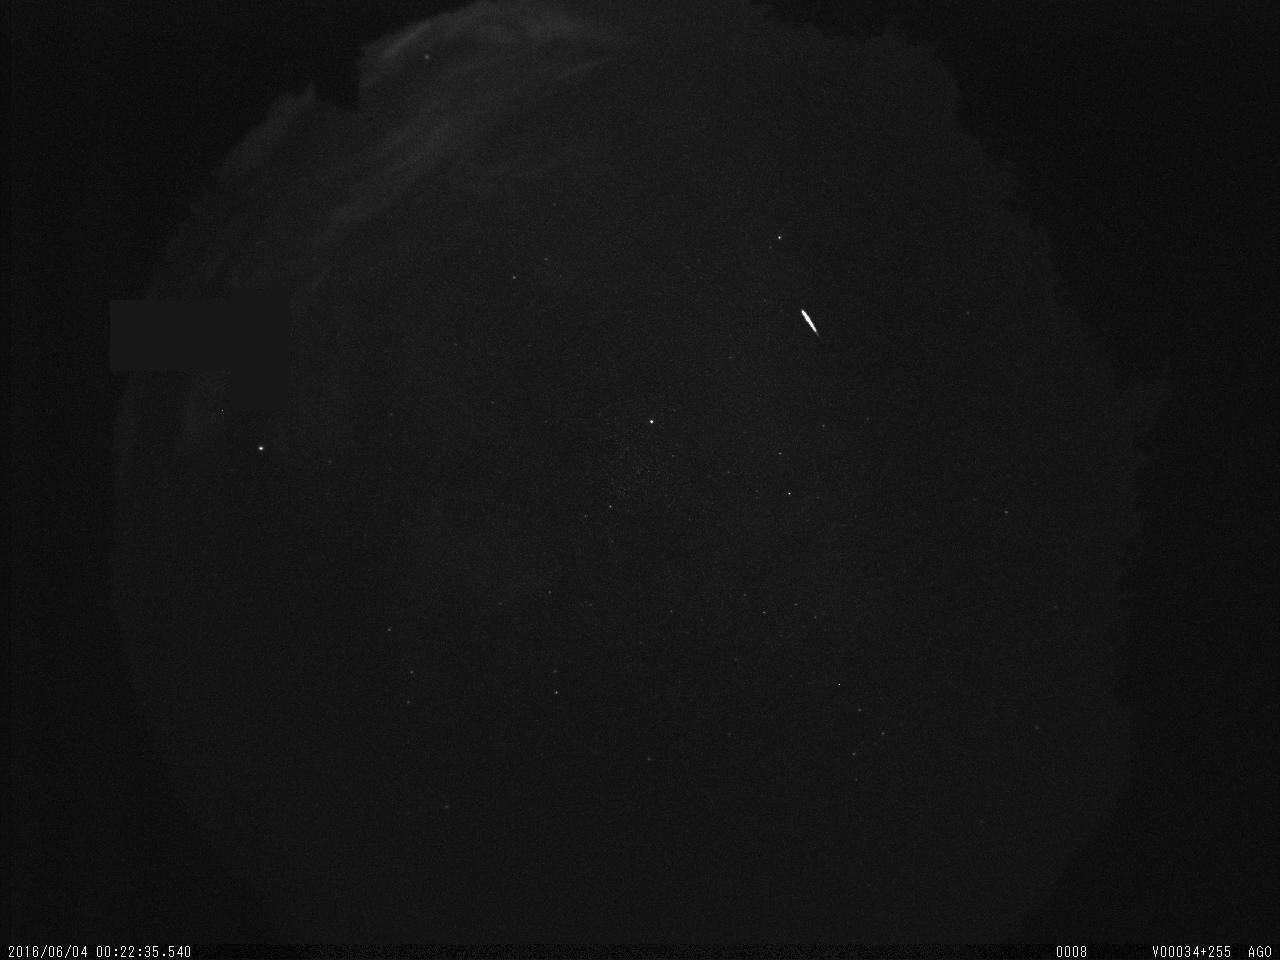meteor: (790, 307, 834, 337)
